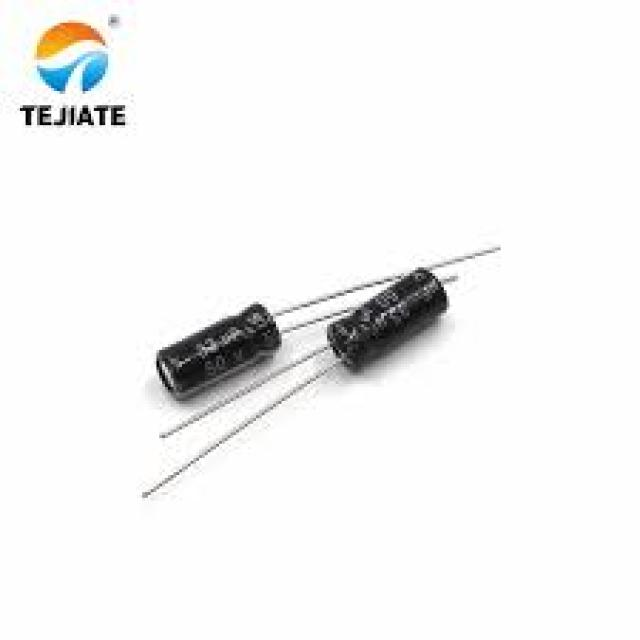Capacitor: (326, 268, 450, 373), (155, 302, 283, 401)
